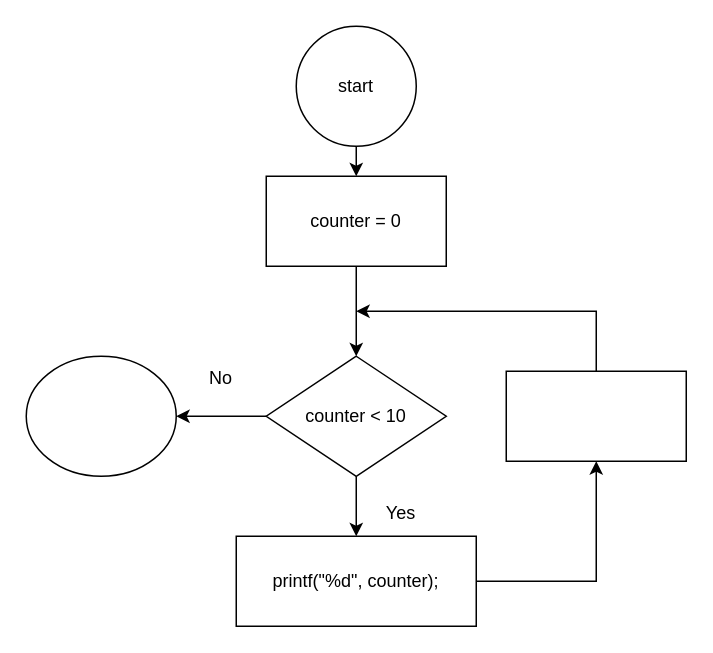
The diagram is 713 pixels wide and 653 high, and some of its shapes have lost their labels. The box of each missing label's shape, as (x1, y1, x2, y2) in pixels:
counter++: (505, 370, 686, 461)
Stop: (25, 355, 176, 476)
